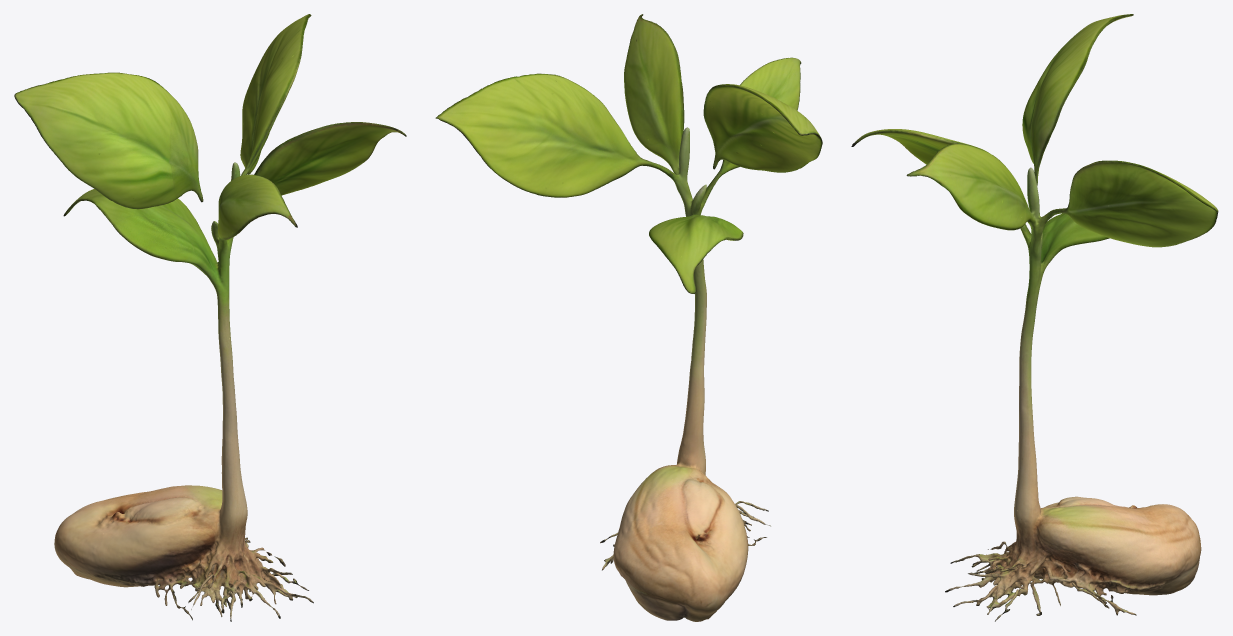
File: bibit_mangga.glb
3 views of the same model, side by side, from view 1: azimuth 30°, elevation 25°; view 2: azimuth 150°, elevation 25°; view 3: azimuth 270°, elevation 25° (orthographic). The views are drawn at different scales.
Bounding box in the file's own units: 1.34 × 2 × 1.25.
1 material, 1 textured.
